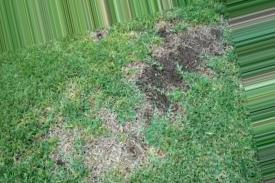patch: (98, 113, 142, 164), (137, 69, 174, 103), (159, 37, 199, 65), (56, 127, 84, 148)
